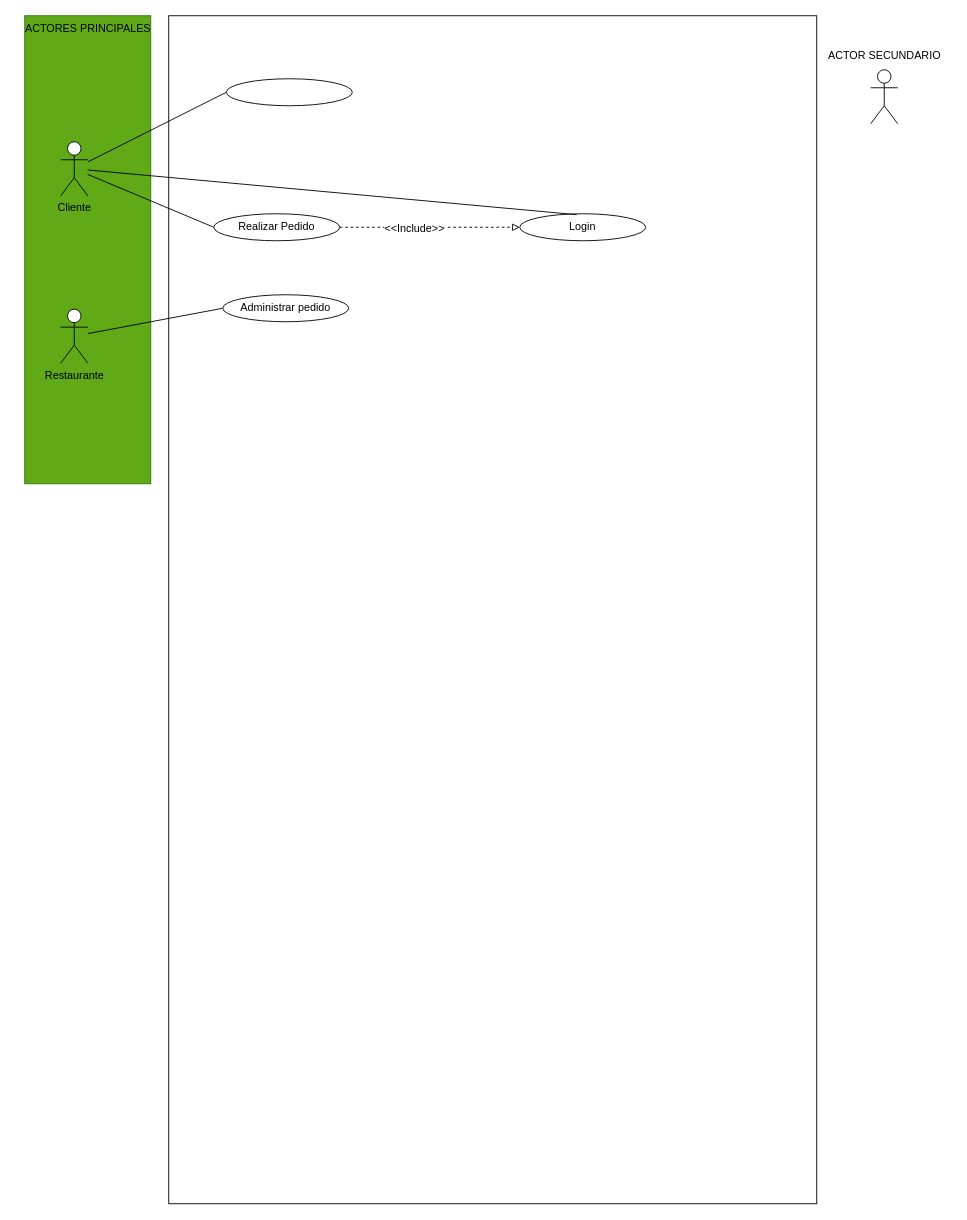
This 967x1220 diagram has some shape labels left out. The shapes that lost their labels are listed below. From the top down, each one's box as (x1, y1, x2, y2) in pixels, then its label:
(225, 78, 352, 106): Buscar comida
(870, 69, 898, 124): ¡BOB!
